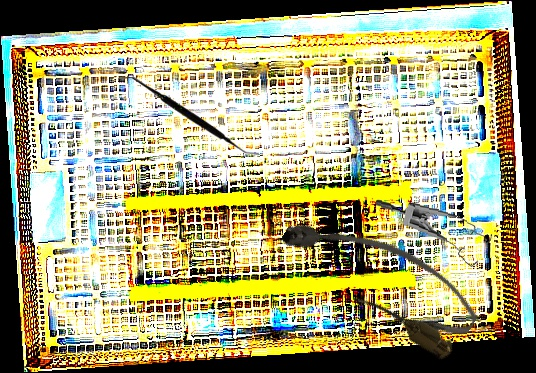Cannula: (272, 189, 488, 365)
Spatula Surgical: (118, 77, 259, 155)
Speculum: (370, 197, 495, 270)
